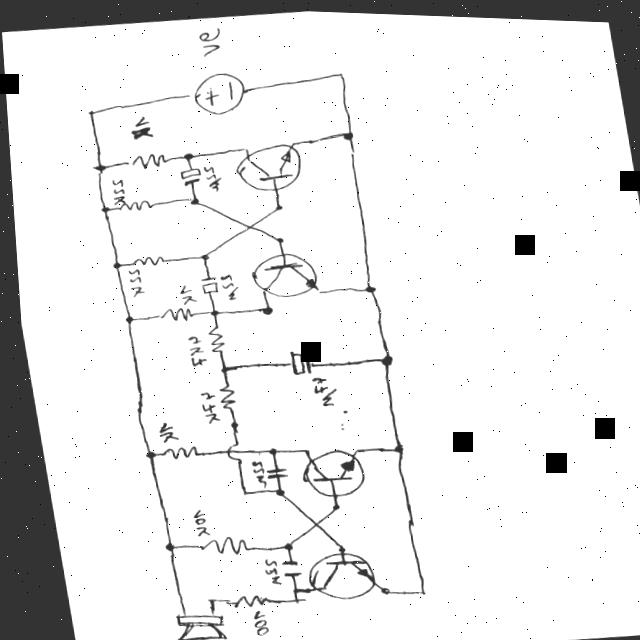capacitor: (282, 347, 307, 374), (176, 165, 200, 186), (193, 275, 215, 293), (271, 557, 292, 575), (257, 465, 282, 477)
crossover: (216, 439, 236, 463), (296, 515, 316, 530), (236, 218, 255, 231)
junction: (328, 66, 346, 80), (372, 351, 390, 364), (254, 302, 271, 315), (271, 538, 288, 550), (185, 193, 201, 205), (211, 362, 227, 374), (154, 540, 170, 552), (369, 582, 385, 594), (87, 162, 106, 172), (338, 128, 353, 140), (202, 305, 216, 317), (385, 441, 399, 453), (359, 282, 374, 293), (222, 418, 237, 429), (322, 499, 337, 510), (177, 150, 193, 160), (266, 484, 279, 496), (136, 448, 150, 459), (192, 250, 207, 260), (268, 232, 283, 242), (259, 445, 274, 455), (406, 584, 420, 594), (118, 314, 131, 324), (310, 284, 323, 294), (269, 201, 283, 210), (235, 143, 247, 153), (325, 542, 340, 550), (231, 486, 244, 495), (107, 259, 118, 269), (96, 204, 108, 213), (280, 584, 292, 593), (197, 595, 209, 603), (282, 594, 293, 602), (84, 108, 94, 116), (293, 445, 303, 453), (293, 585, 303, 592), (286, 138, 296, 144), (346, 445, 356, 451)
resistor: (190, 532, 243, 555), (126, 150, 167, 170), (152, 304, 192, 323), (220, 591, 264, 608), (152, 443, 195, 460), (199, 324, 222, 352), (125, 253, 163, 267), (211, 383, 231, 409), (114, 198, 151, 211)
source: (187, 67, 247, 115)
text: (304, 372, 333, 405), (195, 25, 225, 56), (191, 388, 217, 423), (179, 333, 202, 366), (123, 113, 152, 139), (212, 271, 236, 299), (253, 554, 274, 586), (121, 266, 141, 298), (183, 507, 203, 538), (198, 163, 220, 191), (104, 176, 124, 205), (241, 457, 260, 487), (240, 608, 261, 635), (173, 281, 195, 306), (150, 421, 175, 443)
transistor: (231, 137, 304, 192), (294, 549, 371, 599), (243, 248, 317, 299), (289, 446, 362, 497)
